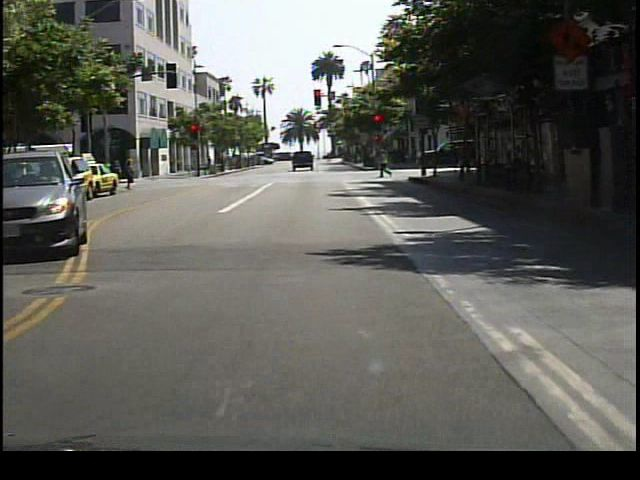person: (456, 138, 478, 180), (376, 149, 393, 179), (124, 157, 138, 192)
